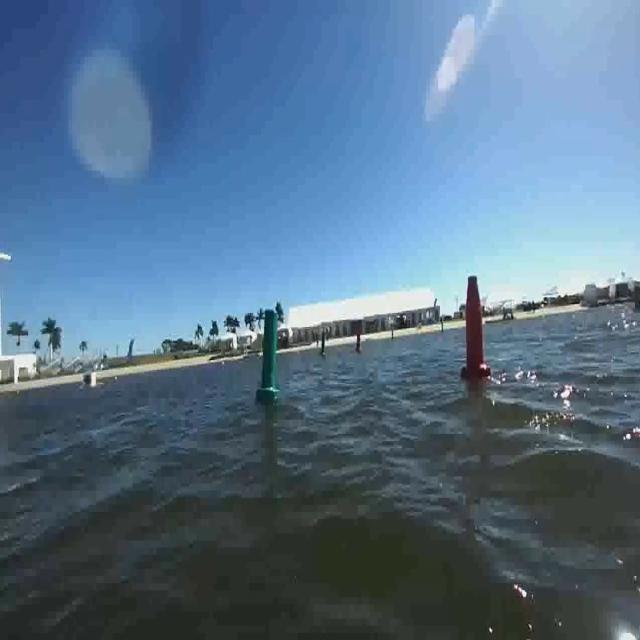green-column-buoy: (258, 307, 284, 400)
red-column-buoy: (460, 270, 490, 381)
